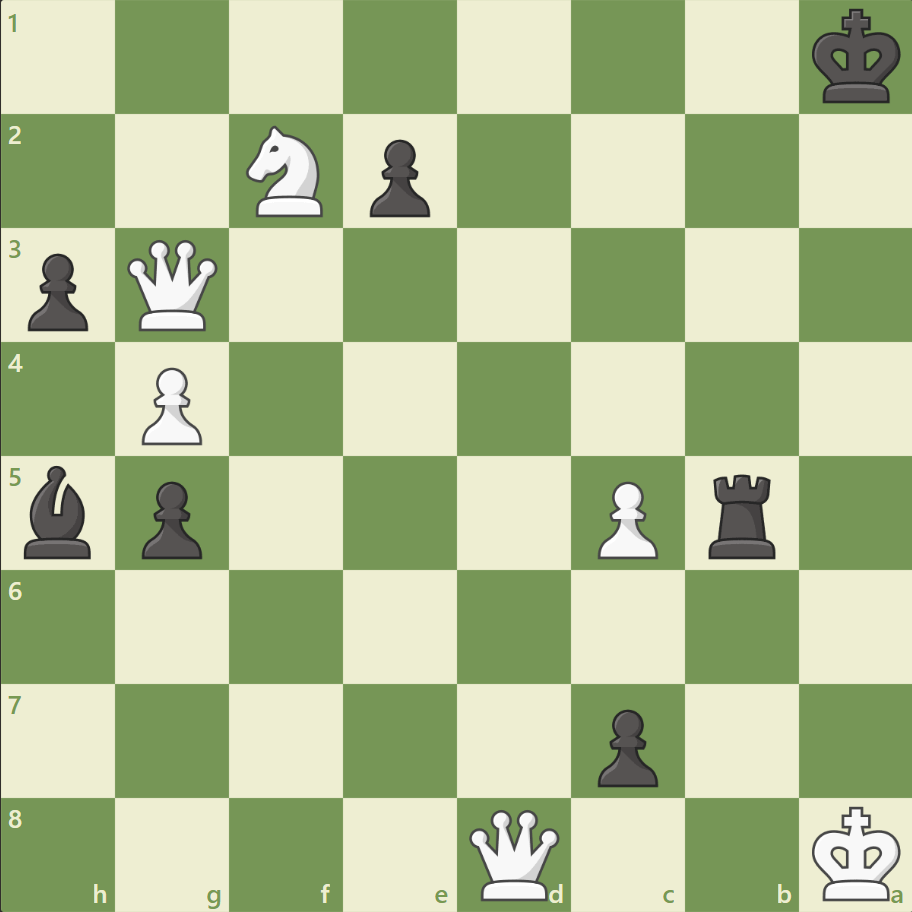K: (806, 798, 906, 906)
N: (238, 121, 335, 223)
P: (133, 359, 208, 450), (588, 473, 662, 564)
Q: (464, 804, 563, 903), (124, 236, 223, 335)
b: (17, 460, 101, 563)
k: (806, 4, 906, 112)
p: (133, 473, 208, 564), (20, 246, 95, 337), (588, 700, 662, 791), (361, 132, 435, 223)
r: (700, 466, 783, 563)
